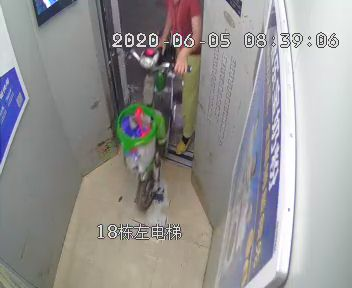Electric-bicycle: (116, 26, 191, 212)
